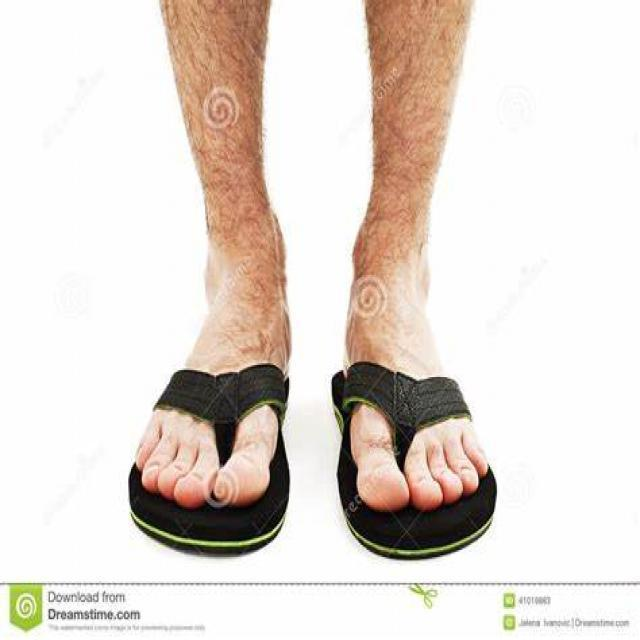No_Shoe: (330, 244, 509, 564), (122, 271, 302, 543)
